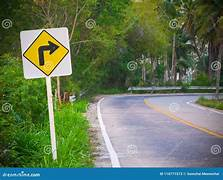right: (20, 28, 72, 78)
